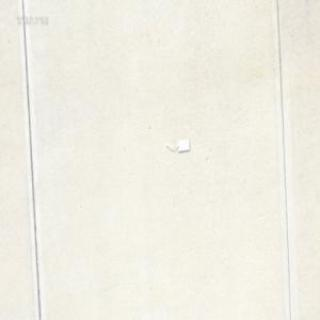LuggageTagtrack_idkeyframe: (163, 136, 189, 154)
